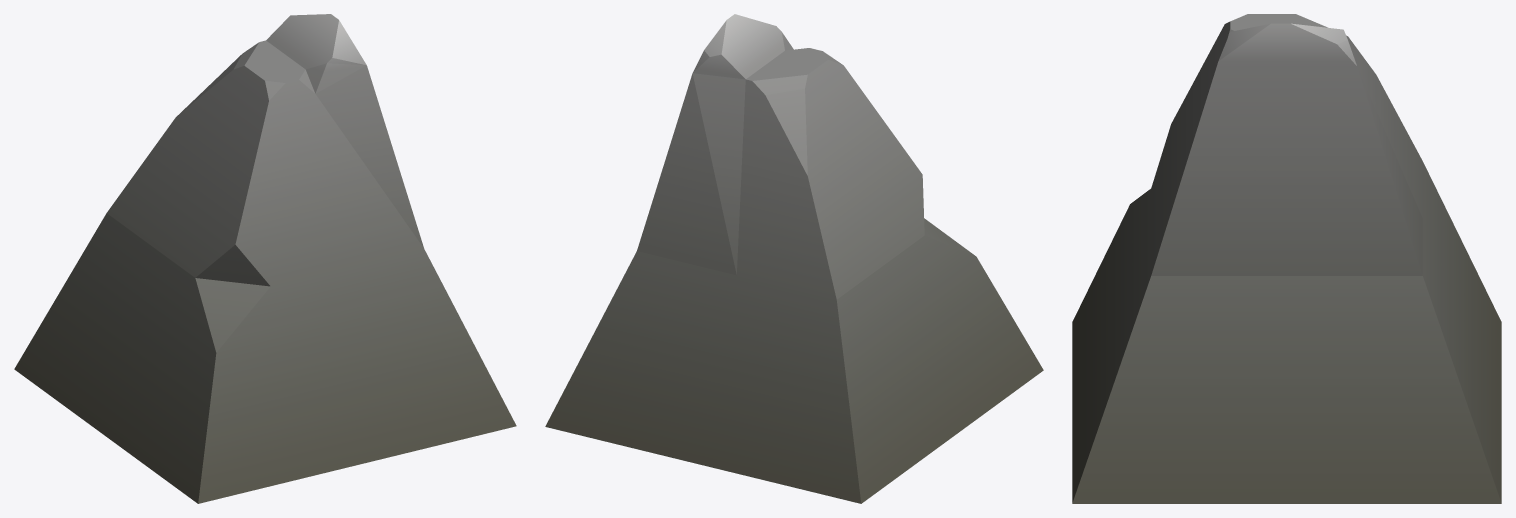
The model's file is Mountain_05.fbx.
The picture shows the model from 3 angles, left to right: view 1: azimuth 30°, elevation 25°; view 2: azimuth 150°, elevation 25°; view 3: azimuth 270°, elevation 25°; orthographic projection. The views are drawn at different scales.
Parts seen in each view (by area): view 1: Mountain_05; view 2: Mountain_05; view 3: Mountain_05.
Part boxes in pixels (x1,y1,x2,y2): Mountain_05: (14, 14, 516, 503); Mountain_05: (545, 14, 1043, 503); Mountain_05: (1072, 14, 1501, 503).
Size of the model in its own units: 14.57 by 16.01 by 14.57.
